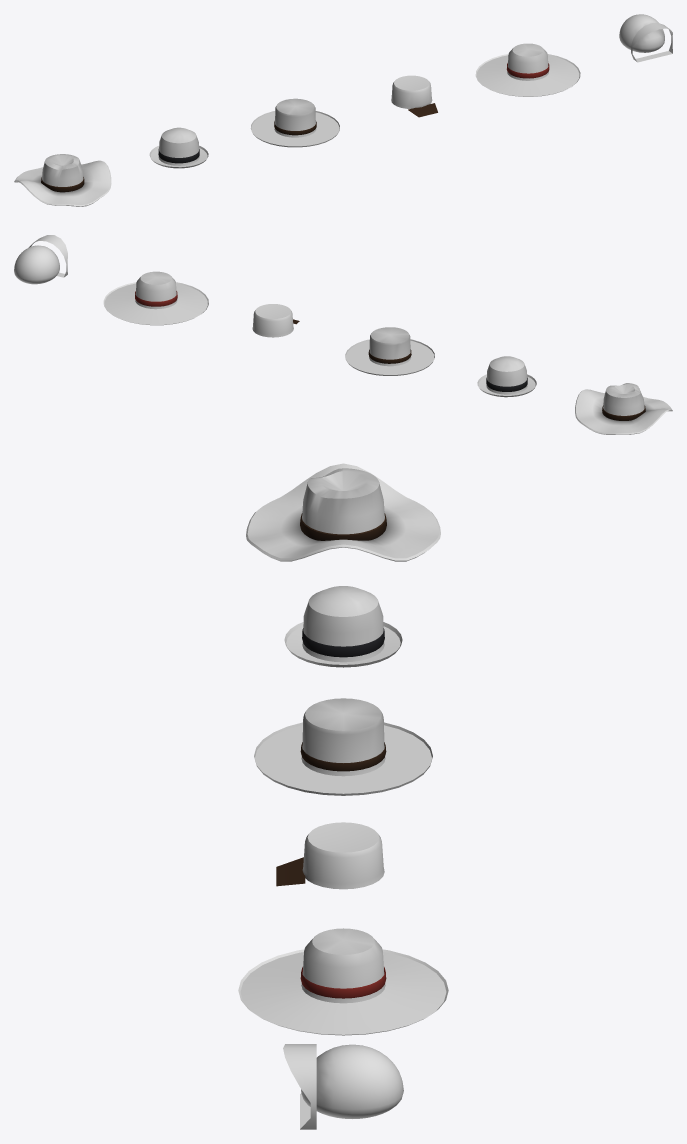
The model's file is hats.fbx.
3 views of the same model, one above another, from view 1: azimuth 30°, elevation 25°; view 2: azimuth 150°, elevation 25°; view 3: azimuth 270°, elevation 25° (orthographic). The views are drawn at different scales.
Parts seen in each view (by area): view 1: hat_straw, hat_cowboy, hat_flatbrim, hat_derby, hat_bonnet, hat_kepi; view 2: hat_straw, hat_cowboy, hat_flatbrim, hat_bonnet, hat_derby, hat_kepi; view 3: hat_straw, hat_cowboy, hat_flatbrim, hat_bonnet, hat_derby, hat_kepi.
Boxes of the visible parts, x1=… form: hat_straw: x1=475, y1=43, x2=580, y2=96; hat_cowboy: x1=14, y1=154, x2=111, y2=206; hat_flatbrim: x1=250, y1=98, x2=339, y2=147; hat_derby: x1=149, y1=127, x2=208, y2=168; hat_bonnet: x1=619, y1=14, x2=672, y2=62; hat_kepi: x1=391, y1=75, x2=437, y2=117; hat_straw: x1=103, y1=271, x2=208, y2=325; hat_cowboy: x1=575, y1=383, x2=672, y2=434; hat_flatbrim: x1=345, y1=327, x2=434, y2=375; hat_bonnet: x1=14, y1=235, x2=67, y2=284; hat_derby: x1=477, y1=356, x2=536, y2=397; hat_kepi: x1=252, y1=304, x2=299, y2=337; hat_straw: x1=238, y1=928, x2=448, y2=1035; hat_cowboy: x1=246, y1=463, x2=440, y2=561; hat_flatbrim: x1=254, y1=698, x2=432, y2=795; hat_bonnet: x1=283, y1=1044, x2=403, y2=1129; hat_derby: x1=284, y1=586, x2=402, y2=667; hat_kepi: x1=276, y1=822, x2=384, y2=889.
Bounding box in the file's own units: 3.32 × 0.1605 × 0.47.
